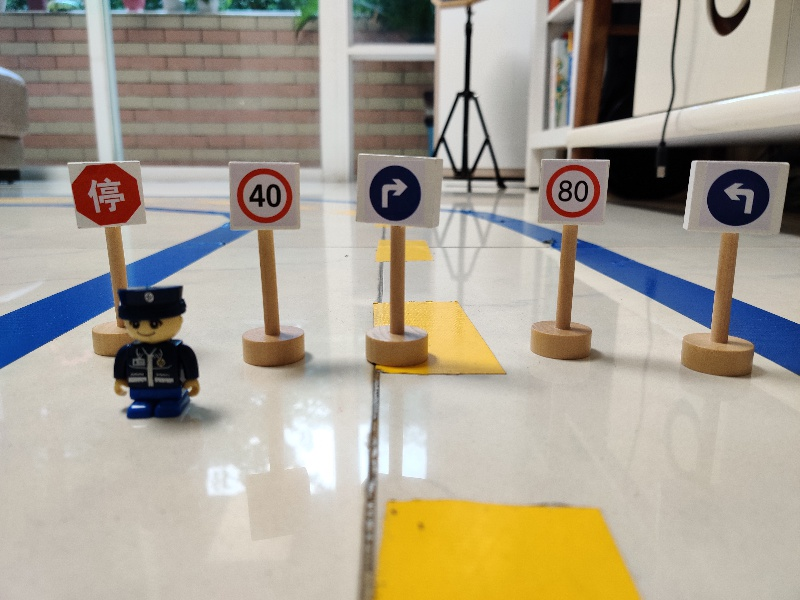limit_40: (226, 160, 303, 231)
limit_80: (536, 159, 606, 224)
person: (111, 282, 202, 423)
stop: (62, 155, 151, 230)
turn_left: (687, 159, 790, 236)
turn_right: (354, 151, 443, 227)
